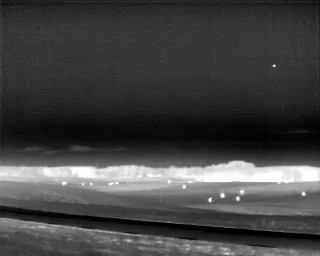BIRD: (270, 62, 278, 71)
